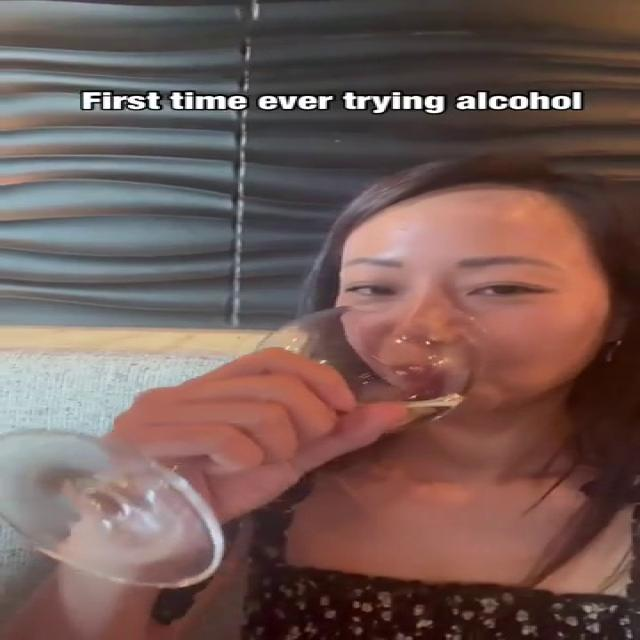Cup: (0, 302, 493, 588)
Hand: (99, 338, 428, 528)
Mouth: (378, 357, 462, 391)
